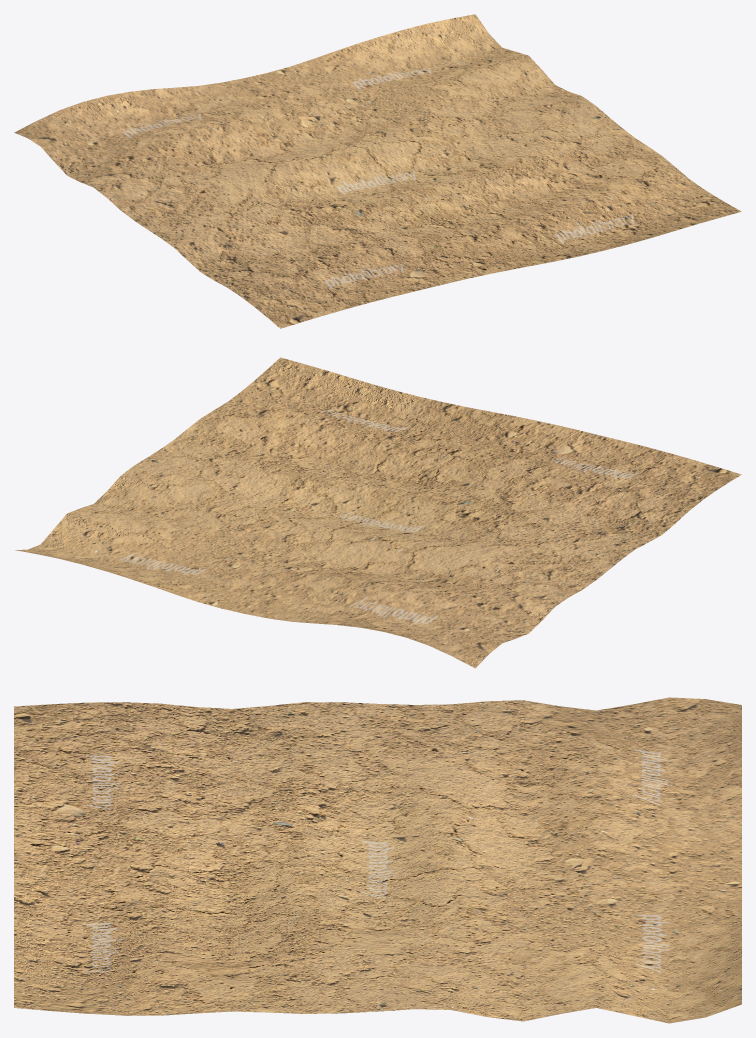
Rendered from ground3.fbx.
The picture shows the model from 3 angles, top to bottom: view 1: azimuth 30°, elevation 25°; view 2: azimuth 150°, elevation 25°; view 3: azimuth 270°, elevation 25°; orthographic projection. The views are drawn at different scales.
Visible parts, largest first — view 1: pPlane1; view 2: pPlane1; view 3: pPlane1.
Part boxes in pixels (x1=…): pPlane1: x1=14, y1=14, x2=741, y2=328; pPlane1: x1=15, y1=357, x2=741, y2=668; pPlane1: x1=14, y1=697, x2=741, y2=1023.
Bounding box in the file's own units: 51.23 × 2.85 × 51.23.
